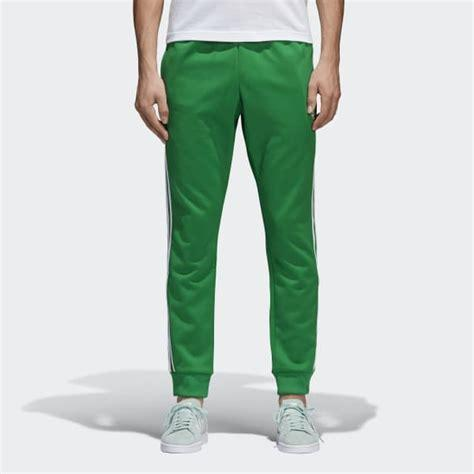pants: (159, 40, 318, 398)
